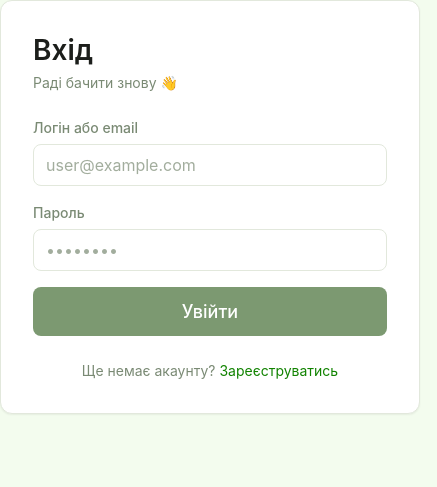
LoginPage — інтеграція форми, Redux і API › показує помилку сервера при невірних даних
The width and height of the screenshot is (437, 487).
Type "ivan" into the field labelled "Логін або email" at [210, 165], box top-left (33, 144), bottom-right (387, 186)
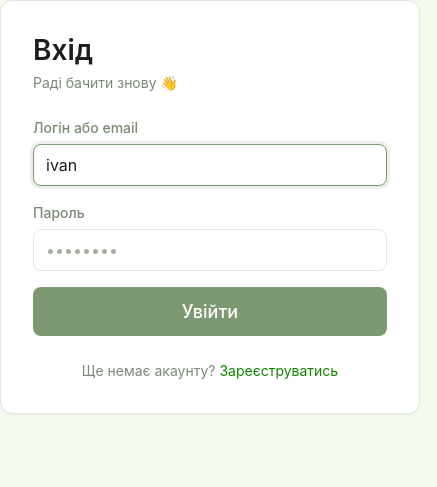
Type "wrongpass" into the password field labelled "Пароль" at [210, 250], box top-left (33, 229), bottom-right (387, 271)
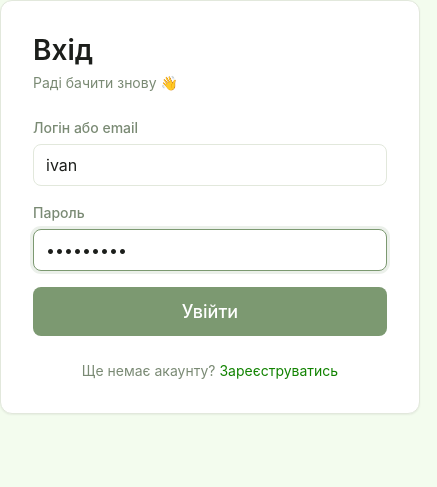
Click the button "Увійти" at [210, 312], box top-left (33, 287), bottom-right (387, 336)
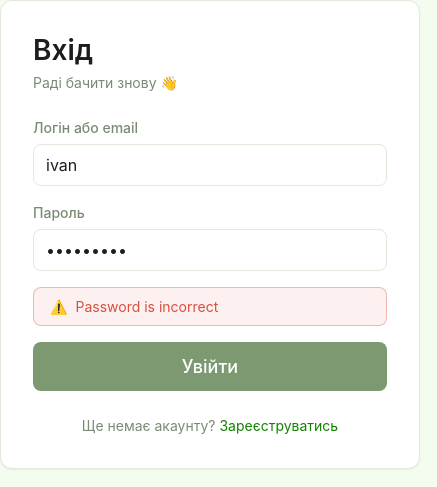
Check: the text "Password is incorrect" is shown, box top-left (76, 298), bottom-right (218, 315)
